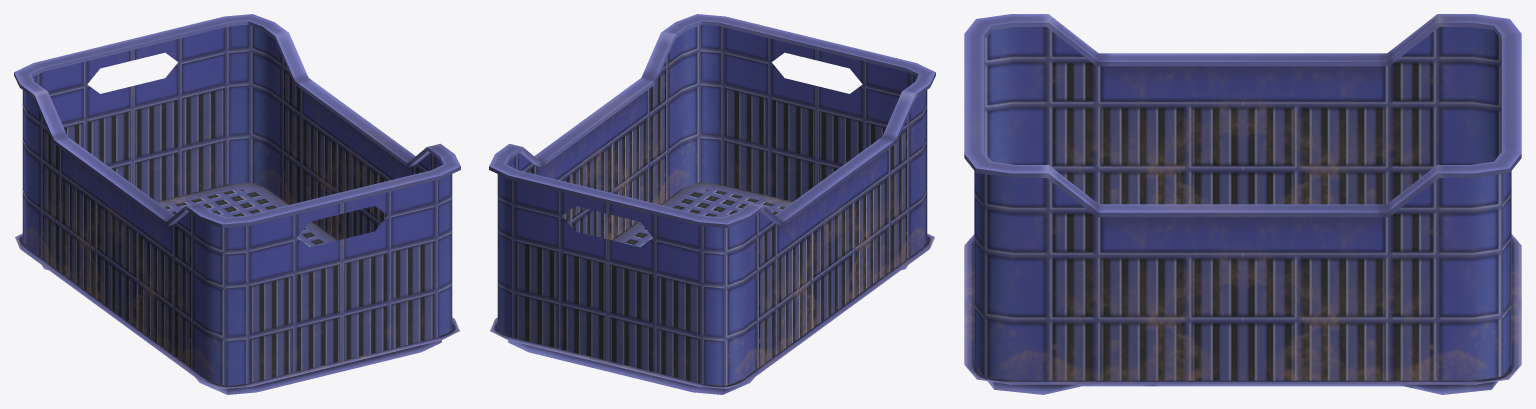
The model's file is fruitBox.fbx.
3 views of the same model, side by side, from view 1: azimuth 30°, elevation 25°; view 2: azimuth 150°, elevation 25°; view 3: azimuth 270°, elevation 25° (orthographic). The views are drawn at different scales.
Parts seen in each view (by area): view 1: fruitBox; view 2: fruitBox; view 3: fruitBox.
Boxes of the visible parts, bbox=[...] form: fruitBox: bbox=[14, 14, 460, 394]; fruitBox: bbox=[489, 14, 935, 394]; fruitBox: bbox=[964, 14, 1521, 394].
Bounding box in the file's own units: 37.44 × 25.09 × 55.33.
